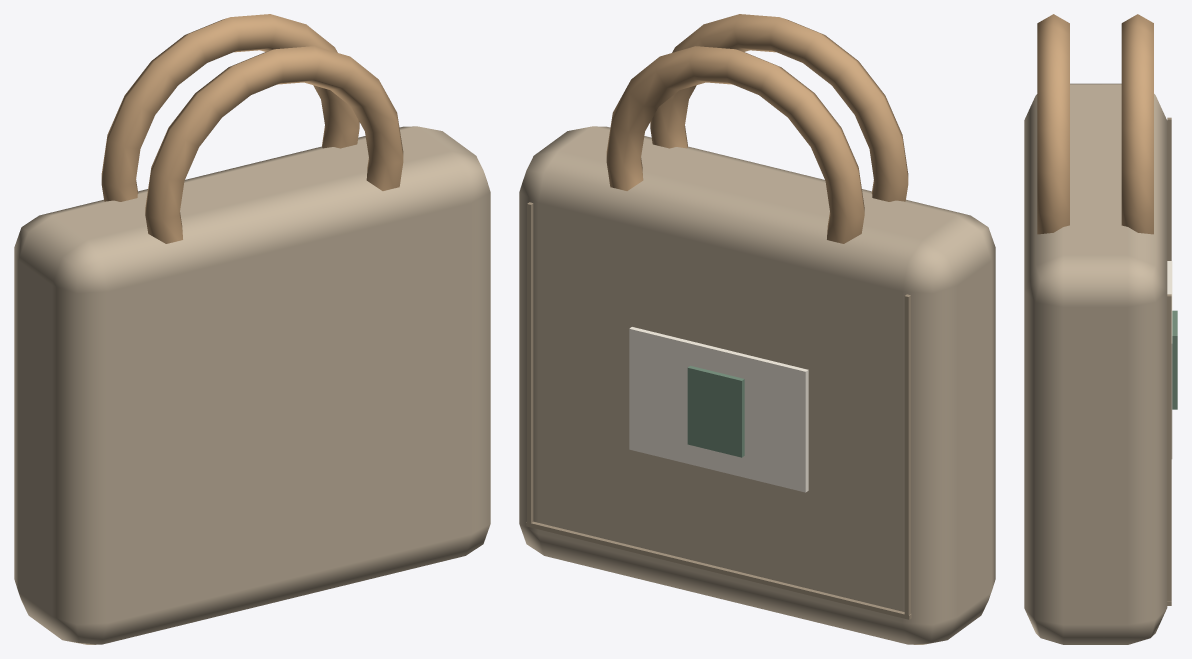
The model's file is tote.glb.
3 views of the same model, side by side, from view 1: azimuth 30°, elevation 25°; view 2: azimuth 150°, elevation 25°; view 3: azimuth 270°, elevation 25° (orthographic). The views are drawn at different scales.
Parts seen in each view (by area): view 1: tote.material0, tote.material1; view 2: tote.material0, tote.material1, tote.material2, tote.material4, tote.material3; view 3: tote.material0, tote.material1, tote.material4, tote.material3, tote.material2.
Boxes of the visible parts, box(x1,y1,x2,y2) form: tote.material0: box(14, 126, 490, 644); tote.material1: box(101, 14, 403, 243); tote.material0: box(519, 126, 995, 644); tote.material1: box(606, 14, 908, 243); tote.material2: box(629, 327, 808, 492); tote.material4: box(526, 202, 911, 619); tote.material3: box(687, 365, 744, 457); tote.material0: box(1024, 83, 1167, 644); tote.material1: box(1037, 14, 1153, 234); tote.material4: box(1167, 117, 1171, 605); tote.material3: box(1172, 310, 1177, 409); tote.material2: box(1167, 261, 1172, 458).
Size of the model in its own units: 0.32 by 0.3905 by 0.102.
